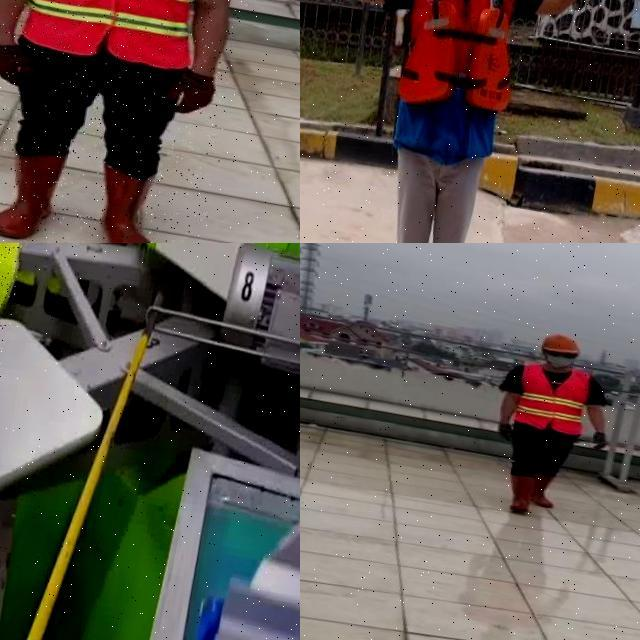boots: (84, 162, 167, 243), (0, 143, 62, 243), (496, 468, 544, 516), (526, 469, 562, 510)
helmet: (538, 330, 584, 358)
vest: (389, 0, 533, 169), (4, 0, 218, 72), (512, 360, 593, 435)
